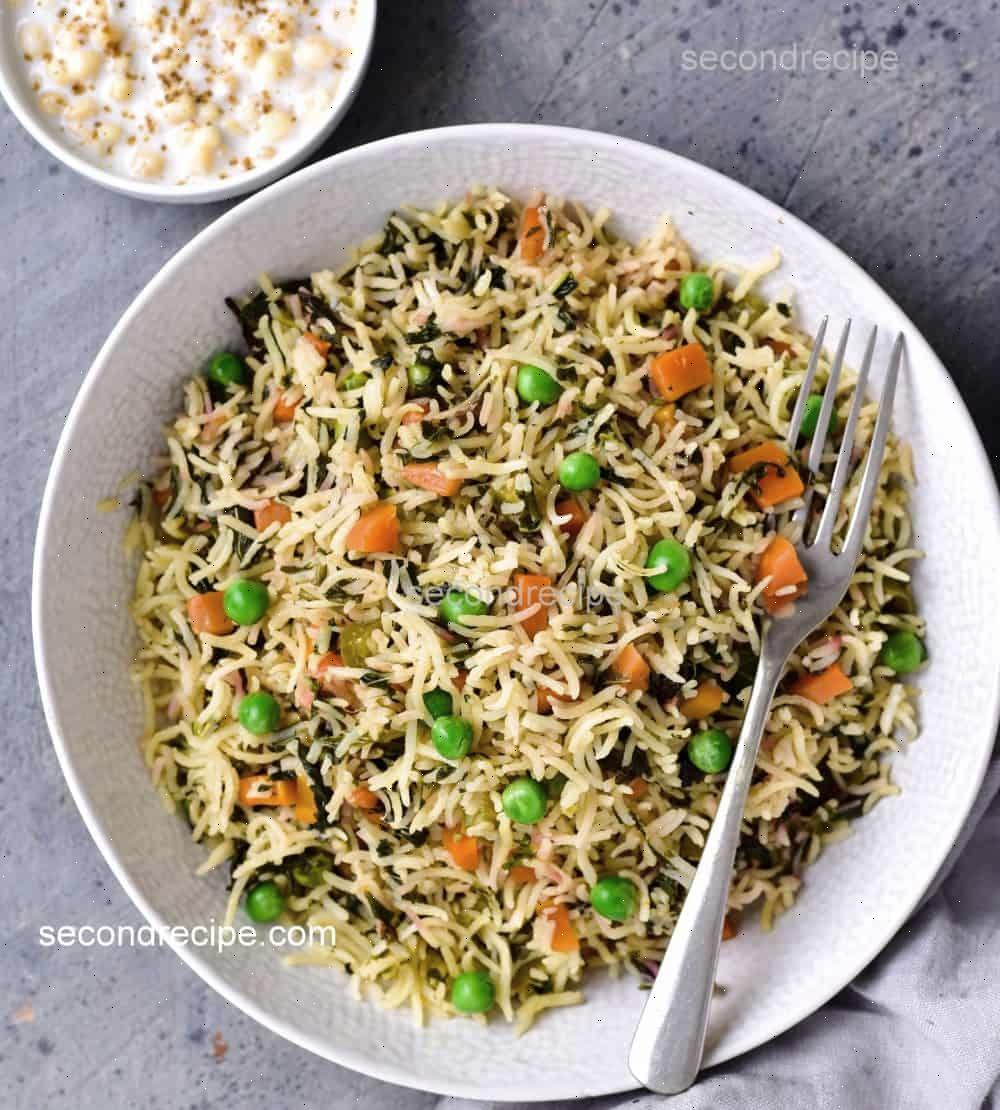veg-pulao: (131, 261, 858, 990)
yogurt: (5, 0, 381, 151)
